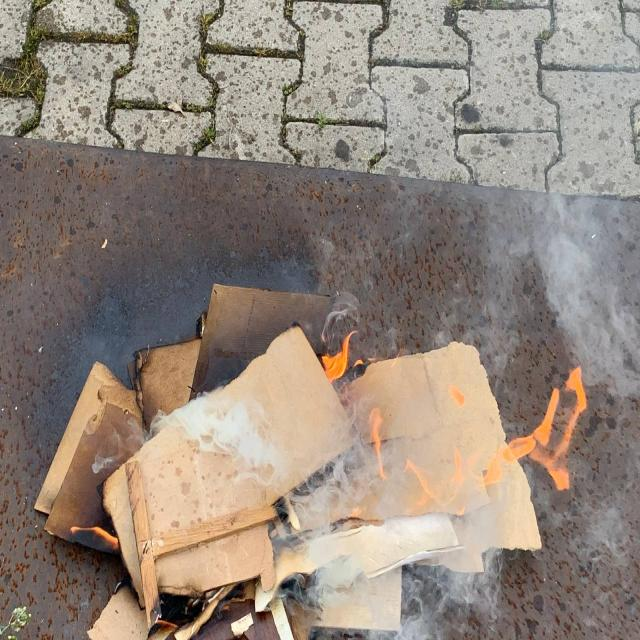fire: (319, 368, 590, 526), (311, 338, 358, 382)
